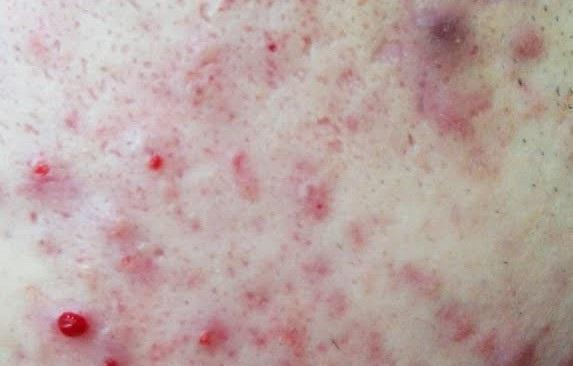keloid: (400, 82, 498, 151), (255, 53, 302, 107), (374, 32, 412, 77), (335, 65, 368, 98)
sebo-crystan-conglo: (414, 9, 495, 71)
